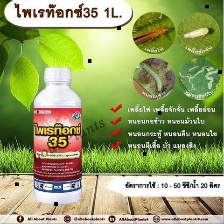insecticide: (27, 64, 84, 206)
